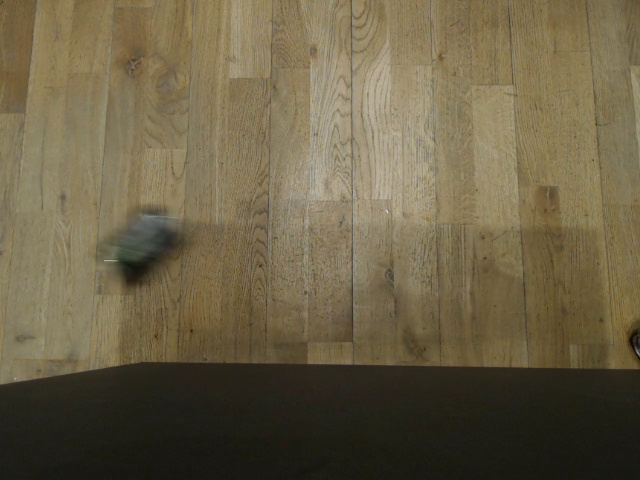beer: (96, 203, 181, 291)
